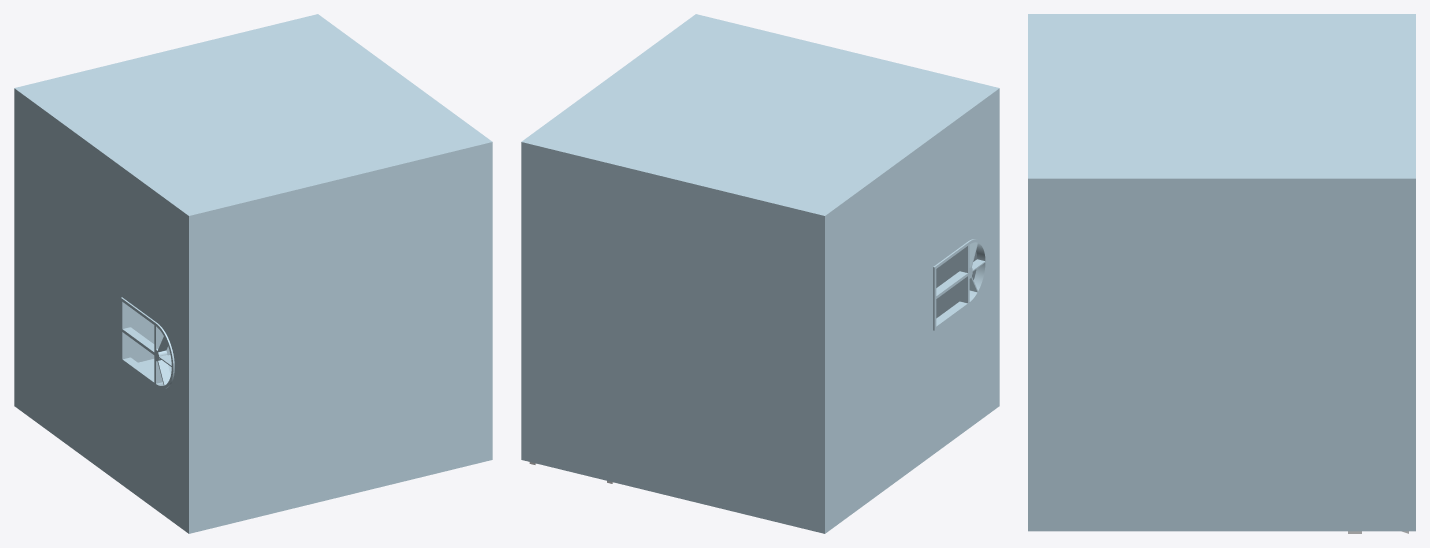
File: Assembly 1.gltf
The picture shows the model from 3 angles, left to right: view 1: azimuth 30°, elevation 25°; view 2: azimuth 150°, elevation 25°; view 3: azimuth 270°, elevation 25°; orthographic projection. The views are drawn at different scales.
Parts seen in each view (by area): view 1: Part 1 (×5); view 2: Part 1 (×4); view 3: Part 1 (×4).
Part boxes in pixels (<box>): Part 1 (×5): <box>14,14,492,533</box>; Part 1 (×4): <box>521,14,999,533</box>; Part 1 (×4): <box>1028,14,1415,531</box>.
Size of the model in its own units: 0.1407 by 0.1422 by 0.1395.
